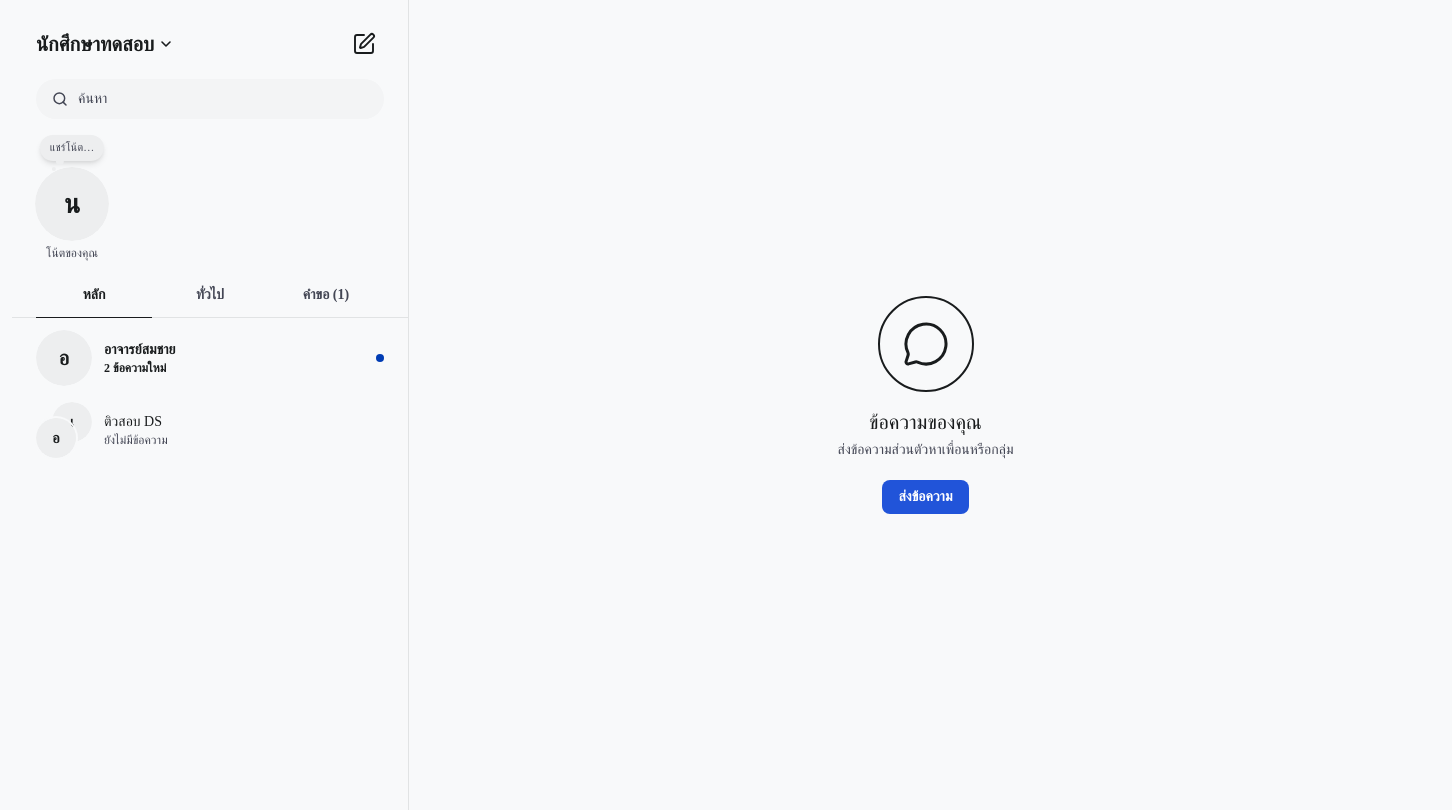
Test: หน้าข้อความ › **ค้นด้วยชื่อที่แสดงได้** รวมชื่อกลุ่ม
Type "สมชาย" into the search field with placeholder "ค้นหา" at x=223, y=99, box [78,89,368,109]
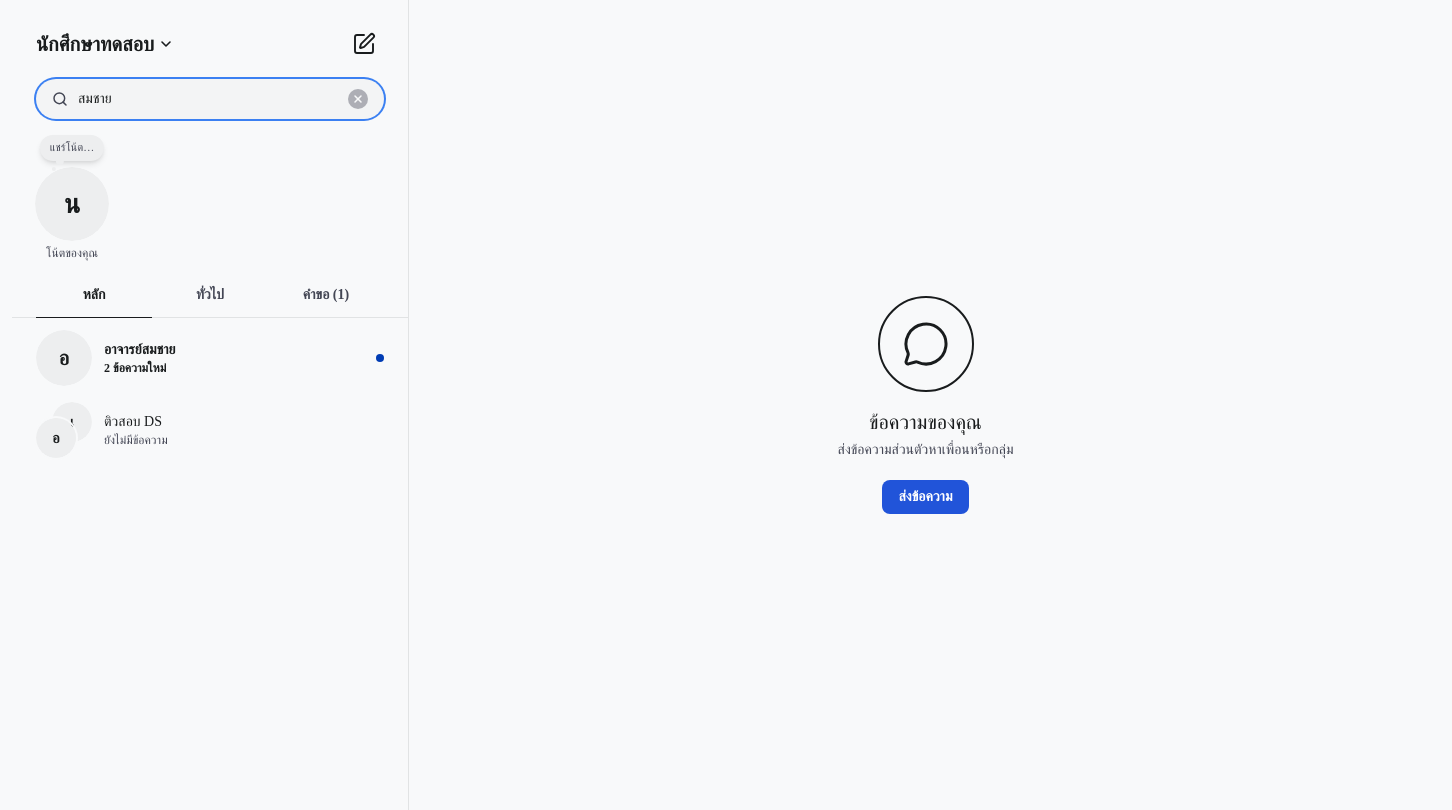
Clear the search field with placeholder "ค้นหา" at x=208, y=99, box [78,89,338,109]
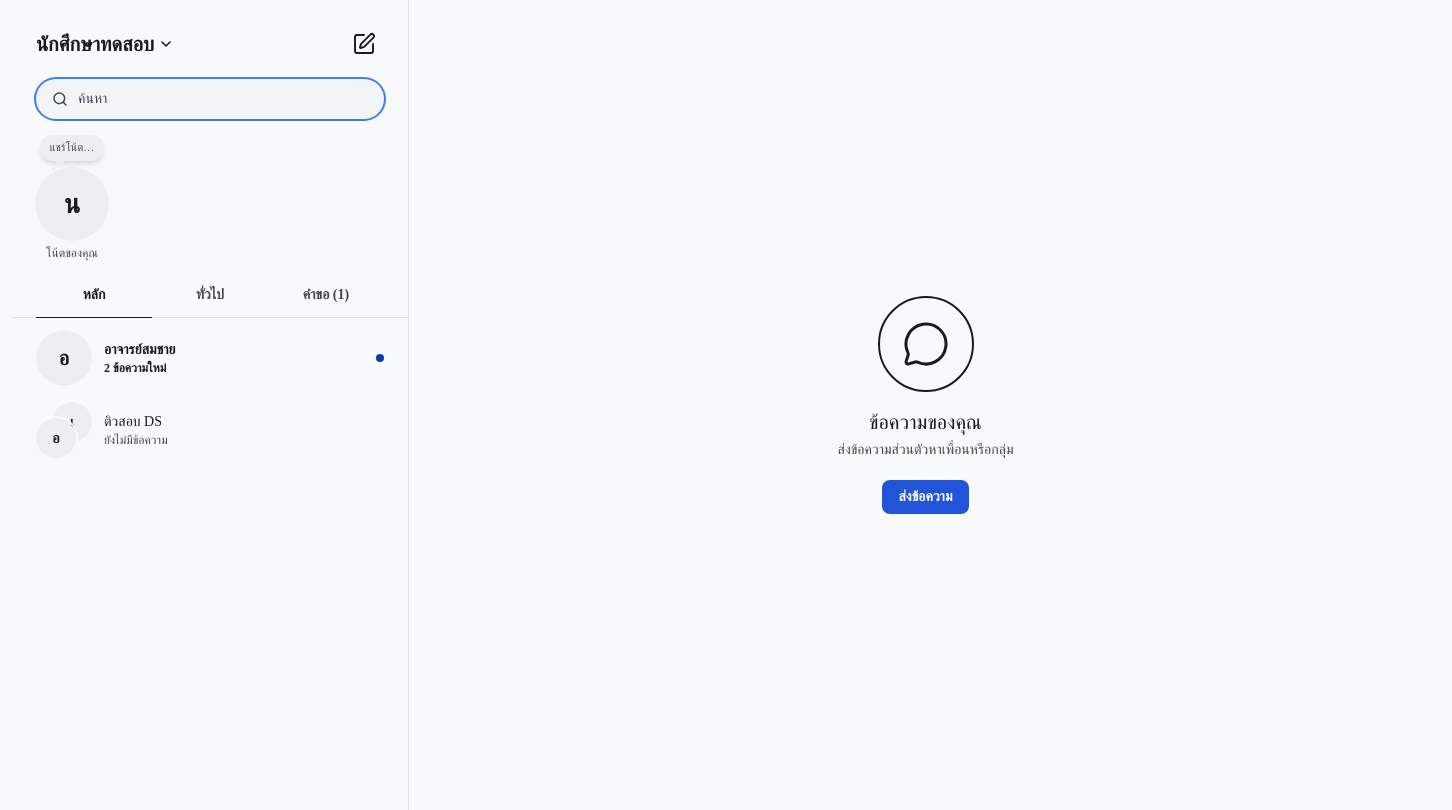
Type "ติวสอบ" into the search field with placeholder "ค้นหา" at x=223, y=99, box [78,89,368,109]
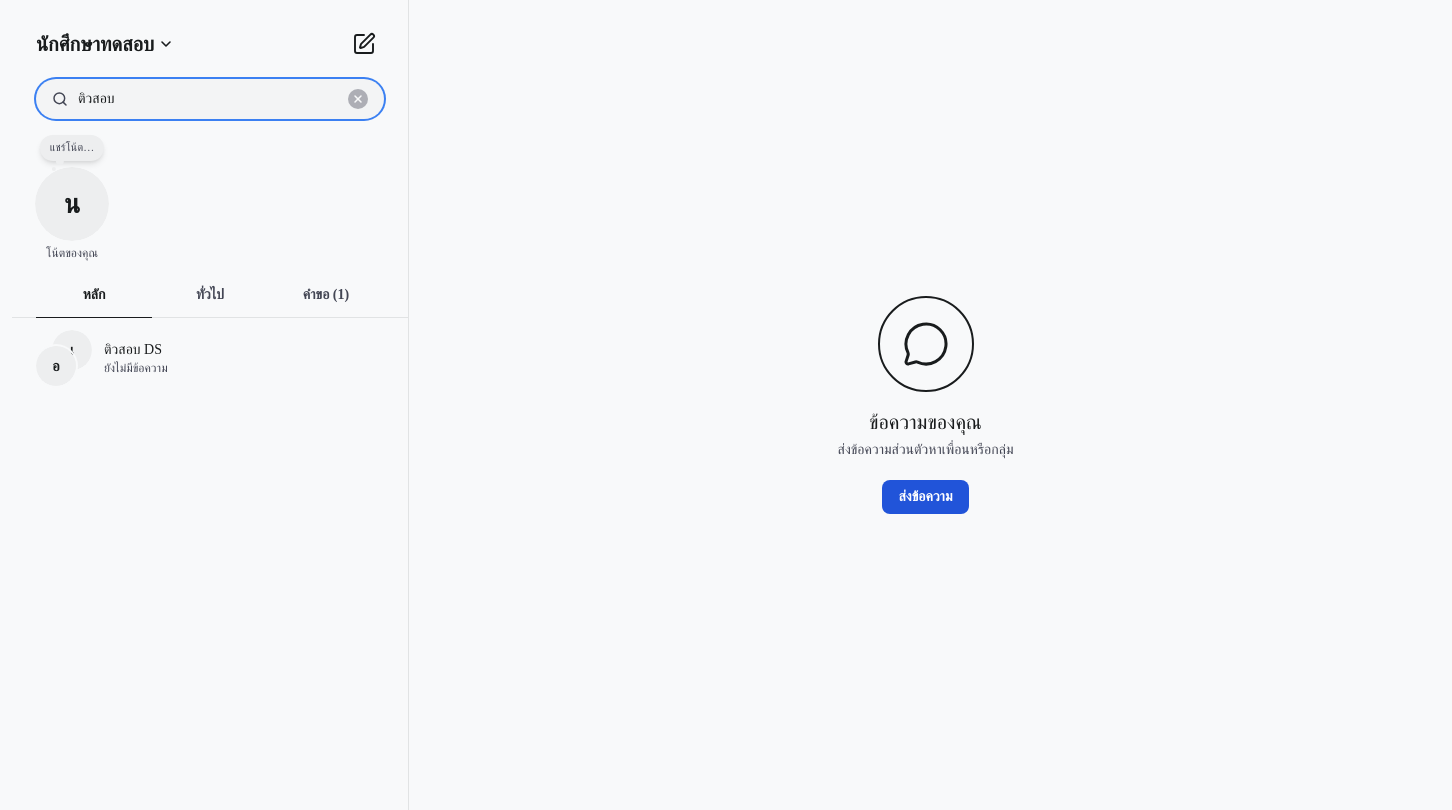
Clear the search field with placeholder "ค้นหา" at x=208, y=99, box [78,89,338,109]
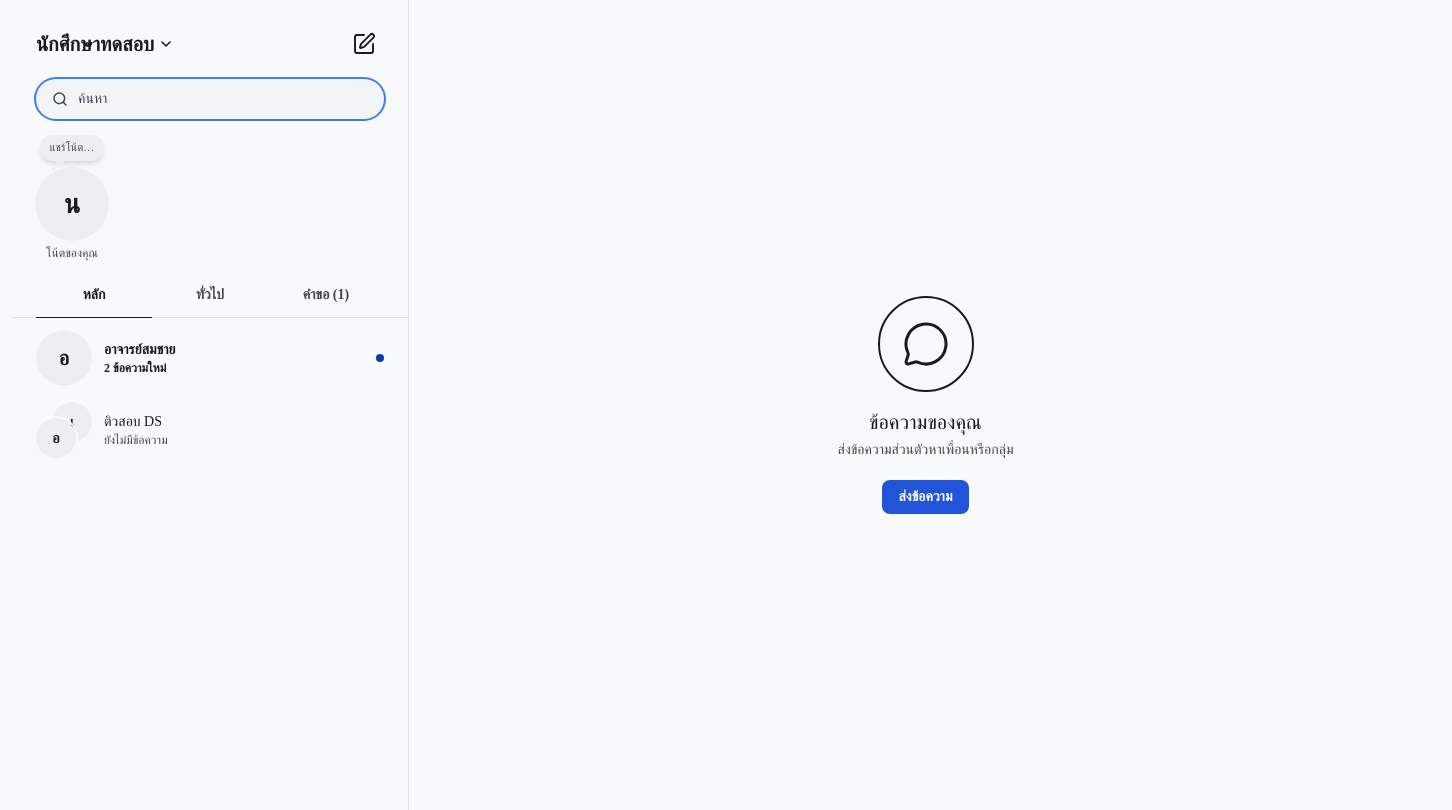
Type "ไม่มีใครชื่อนี้" into the search field with placeholder "ค้นหา" at x=223, y=99, box [78,89,368,109]
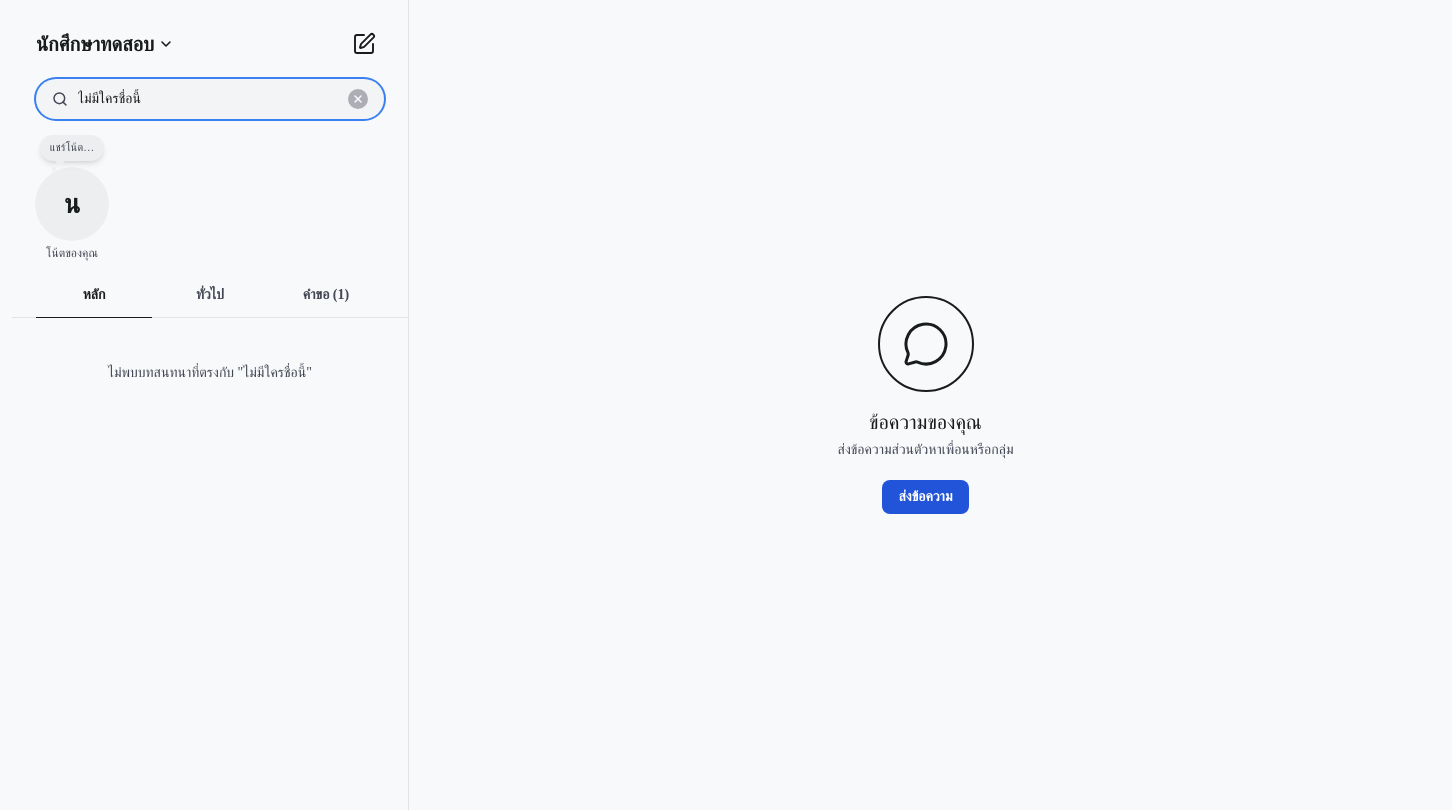
expect the text "ไม่พบบทสนทนาที่ตรงกับ \"ไม่มีใครชื่อนี้\"" is shown: met, box [108,365,312,380]
